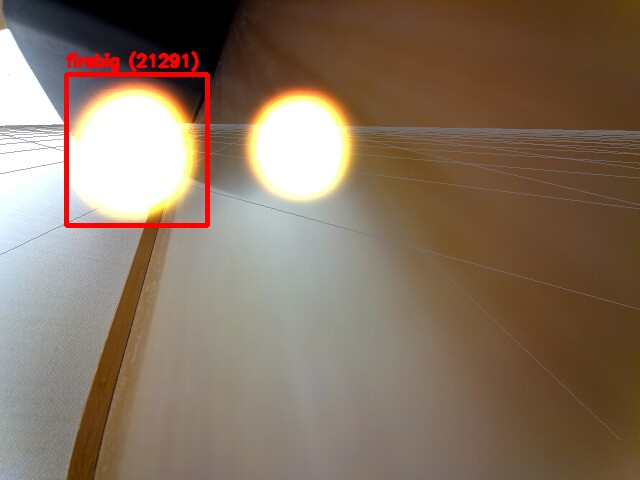firebig: (66, 74, 207, 225)
